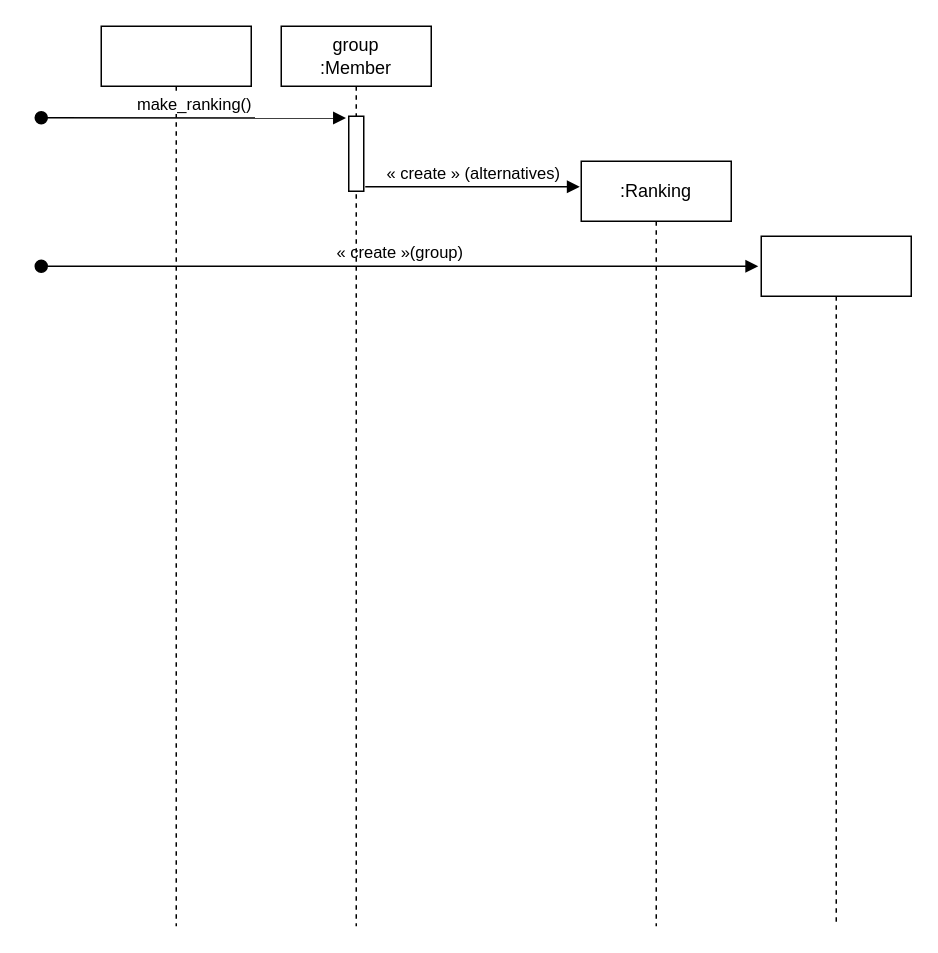
This 938x953 diagram has some shape labels left out. The box of each missing label's shape, as (x1, y1, x2, y2) in pixels:
:Payoff: (760, 235, 911, 926)
alternatives :Alternative: (100, 25, 251, 926)
